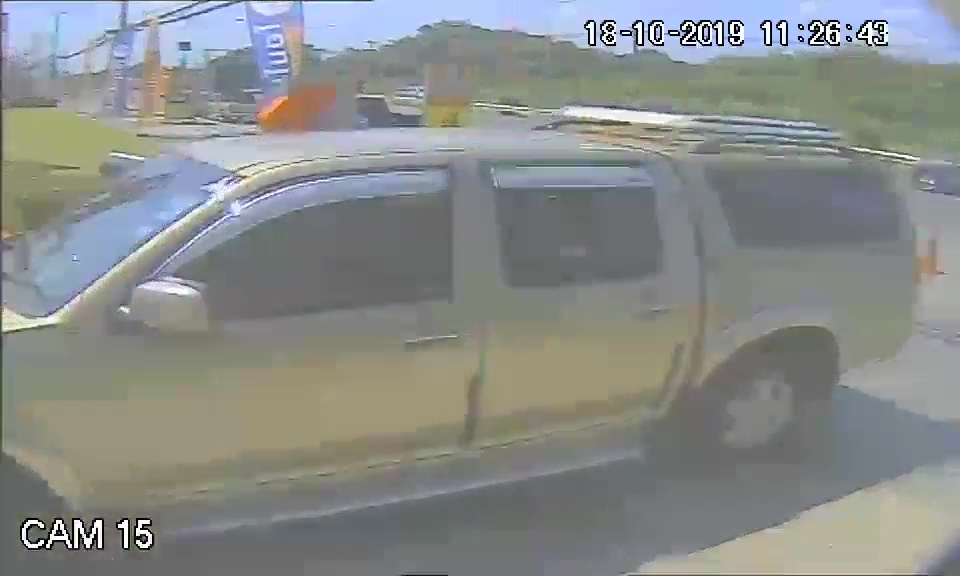pickup: (8, 113, 913, 517)
